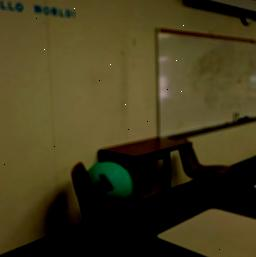algae: (86, 158, 134, 200)
